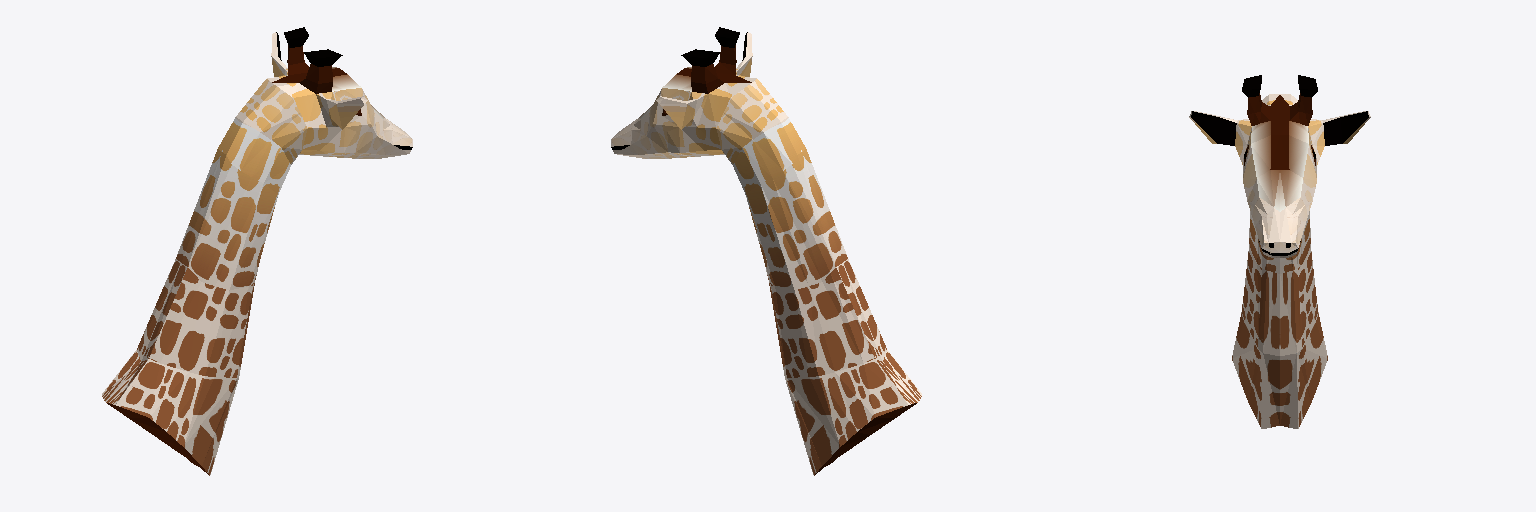
3 renders of one model, left to right at view 1: azimuth 30°, elevation 25°; view 2: azimuth 150°, elevation 25°; view 3: azimuth 270°, elevation 25°, orthographic.
Visible parts, largest first — view 1: Plane.001; view 2: Plane.001; view 3: Plane.001.
Part boxes in pixels (x1,y1,x2,y2): Plane.001: (102,27,412,475); Plane.001: (611,27,921,475); Plane.001: (1189,75,1370,428).
Bounding box in the file's own units: 1.69 × 2.15 × 0.8837.
Materials: 7 (4 with a texture image).